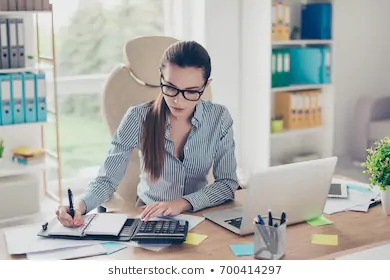F_shirt: (66, 97, 238, 208)
